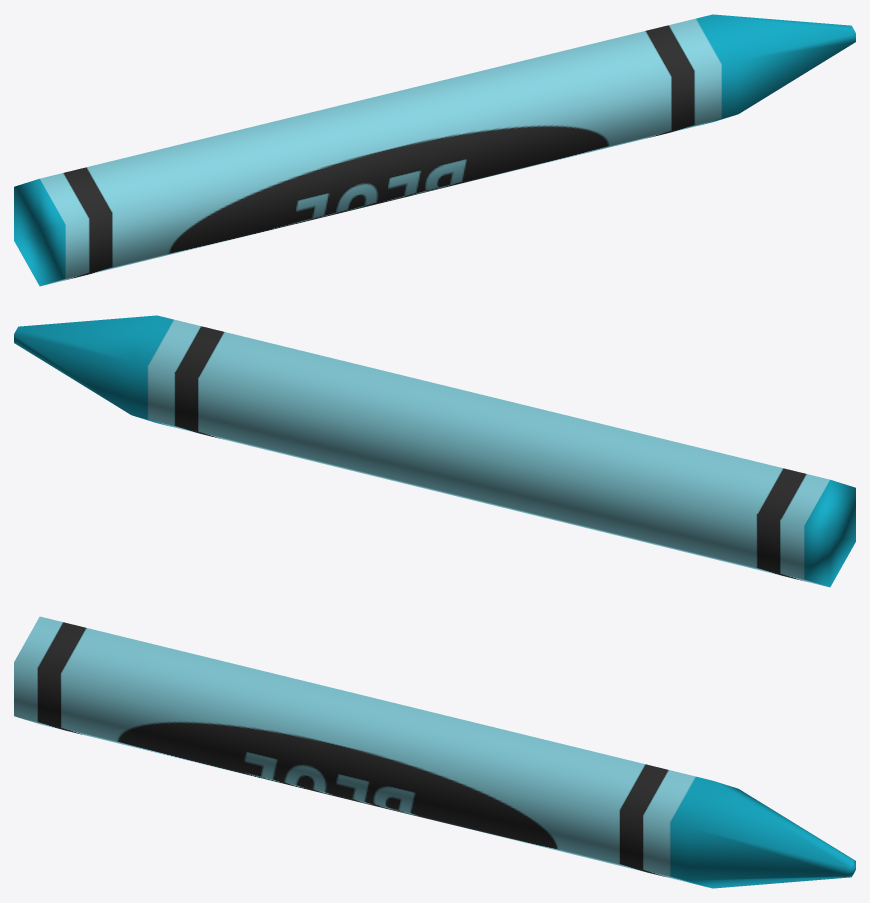
File: crayon.fbx
3 renders of one model, top to bottom at view 1: azimuth 30°, elevation 25°; view 2: azimuth 150°, elevation 25°; view 3: azimuth 330°, elevation 25°, orthographic.
Visible parts, largest first — view 1: Crayon_MESH; view 2: Crayon_MESH; view 3: Crayon_MESH.
Part boxes in pixels (x1,y1,x2,y2): Crayon_MESH: (14, 14, 855, 286); Crayon_MESH: (14, 315, 855, 587); Crayon_MESH: (14, 616, 855, 888).
Bounding box in the file's own units: 0.9526 × 0.1203 × 0.1042.
